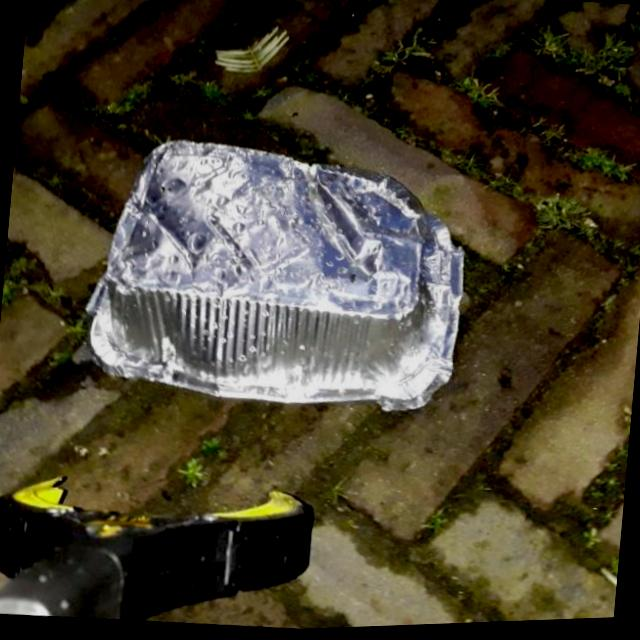Can-Metal: (71, 119, 479, 434)
